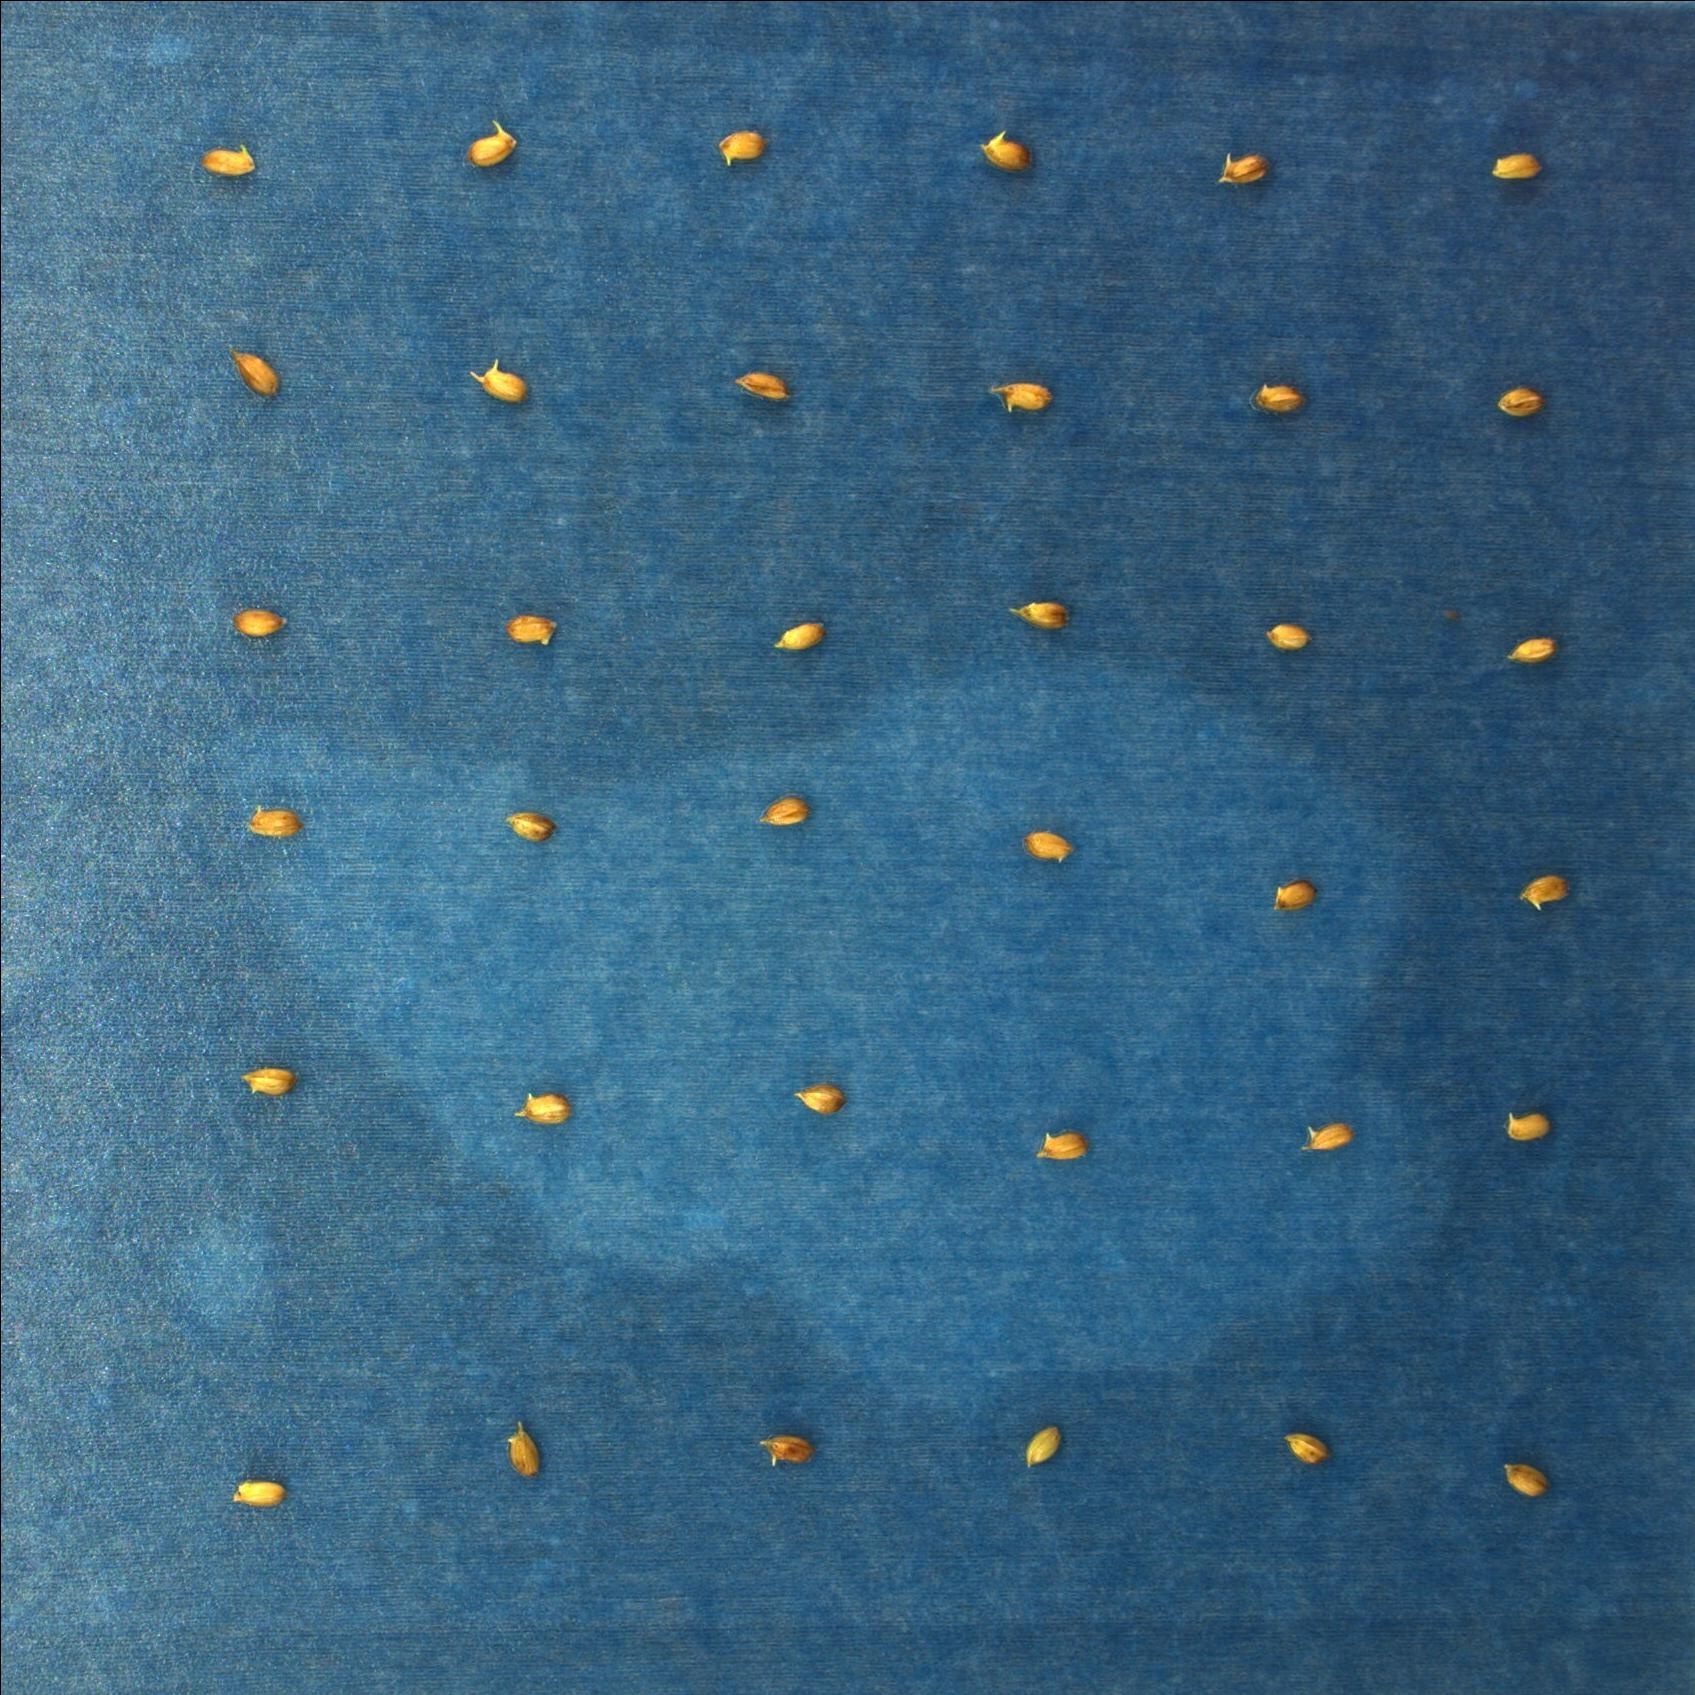not sprout: (470, 357, 528, 404), (981, 130, 1038, 174), (466, 118, 515, 168), (231, 345, 279, 394), (989, 379, 1054, 414), (508, 1419, 545, 1481), (716, 127, 768, 171), (733, 366, 793, 404), (512, 1090, 573, 1125), (1007, 599, 1073, 632), (754, 1431, 815, 1465), (1217, 152, 1270, 191), (1516, 874, 1569, 913), (199, 144, 258, 179), (231, 605, 290, 640), (1254, 380, 1305, 419), (244, 804, 301, 838), (1034, 1132, 1093, 1164), (504, 810, 559, 844), (504, 613, 560, 646), (795, 1085, 847, 1119), (1302, 1121, 1354, 1155), (1499, 1461, 1551, 1495), (771, 622, 827, 653), (241, 1066, 296, 1097), (1496, 386, 1548, 419), (759, 795, 810, 827), (1287, 1431, 1333, 1467), (1267, 619, 1315, 653), (1024, 1425, 1059, 1471), (1492, 152, 1544, 182), (230, 1479, 289, 1506), (1026, 830, 1076, 861), (1506, 1111, 1554, 1142), (1271, 882, 1316, 913), (1507, 636, 1557, 664)
